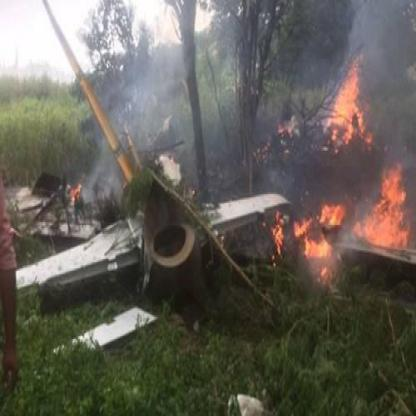fire: (268, 186, 346, 284), (349, 158, 411, 250), (323, 45, 374, 146), (274, 110, 296, 140), (65, 176, 83, 202)
smoke: (365, 12, 402, 81), (136, 62, 172, 128)
